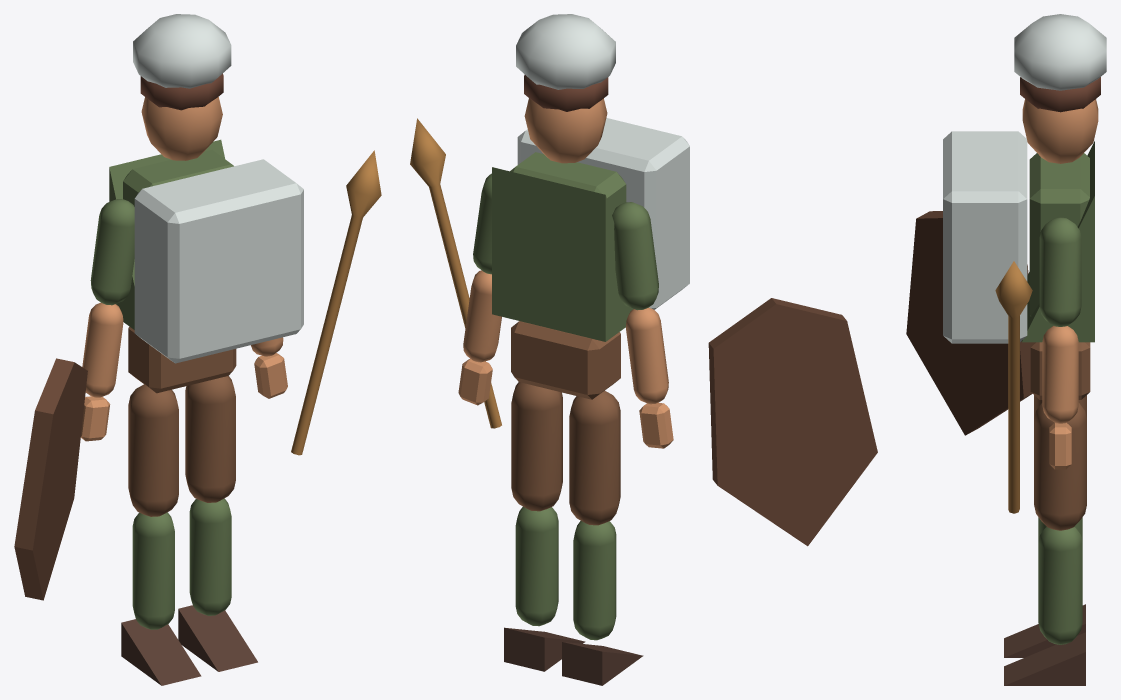
Rendered from adventurer.rustic.glb.
The picture shows the model from 3 angles, left to right: view 1: azimuth 30°, elevation 25°; view 2: azimuth 150°, elevation 25°; view 3: azimuth 270°, elevation 25°; orthographic projection.
Visible parts, largest first — view 1: accessory.body, accessory.off-hand, thigh.left, thigh.right, accessory.head, shin.left, shin.right, accessory.main-hand, upper-arm.left, head, pelvis, foot.left (+7 smaller); view 2: accessory.off-hand, tunic, accessory.body, pelvis, thigh.left, thigh.right, accessory.head, shin.right, shin.left, upper-arm.left, head, accessory.main-hand (+9 smaller); view 3: accessory.body, accessory.off-hand, accessory.head, shin.right, thigh.right, torso, upper-arm.right, accessory.main-hand, head, forearm.right, tunic, foot.right (+4 smaller).
Boxes of the visible parts, <box> form: accessory.body: <box>134,159,303,363</box>; accessory.off-hand: <box>14,358,87,600</box>; thigh.left: <box>128,384,178,516</box>; thigh.right: <box>185,376,235,502</box>; accessory.head: <box>133,14,231,88</box>; shin.left: <box>132,512,174,629</box>; shin.right: <box>189,498,231,615</box>; accessory.main-hand: <box>291,150,381,455</box>; upper-arm.left: <box>90,199,134,305</box>; head: <box>141,97,222,160</box>; pelvis: <box>128,326,236,393</box>; foot.left: <box>121,619,201,685</box>; accessory.off-hand: <box>708,298,877,546</box>; tunic: <box>492,167,633,341</box>; accessory.body: <box>517,118,689,309</box>; pelvis: <box>511,321,620,399</box>; thigh.left: <box>569,390,620,525</box>; thigh.right: <box>511,382,562,511</box>; accessory.head: <box>516,14,615,89</box>; shin.right: <box>515,506,558,626</box>; shin.left: <box>573,521,616,640</box>; upper-arm.left: <box>612,202,658,310</box>; head: <box>524,98,607,163</box>; accessory.main-hand: <box>410,118,501,428</box>; accessory.body: <box>943,131,1027,343</box>; accessory.off-hand: <box>906,211,1032,435</box>; accessory.head: <box>1014,14,1106,90</box>; shin.right: <box>1038,526,1082,644</box>; thigh.right: <box>1034,403,1086,530</box>; torso: <box>1029,153,1089,316</box>; upper-arm.right: <box>1039,217,1081,326</box>; accessory.main-hand: <box>995,261,1032,513</box>; head: <box>1022,99,1098,163</box>; forearm.right: <box>1042,326,1078,423</box>; tunic: <box>1021,141,1094,342</box>; foot.right: <box>1004,632,1085,685</box>.
Bounding box in the file's own units: 2.17 × 3.2 × 0.9041.
